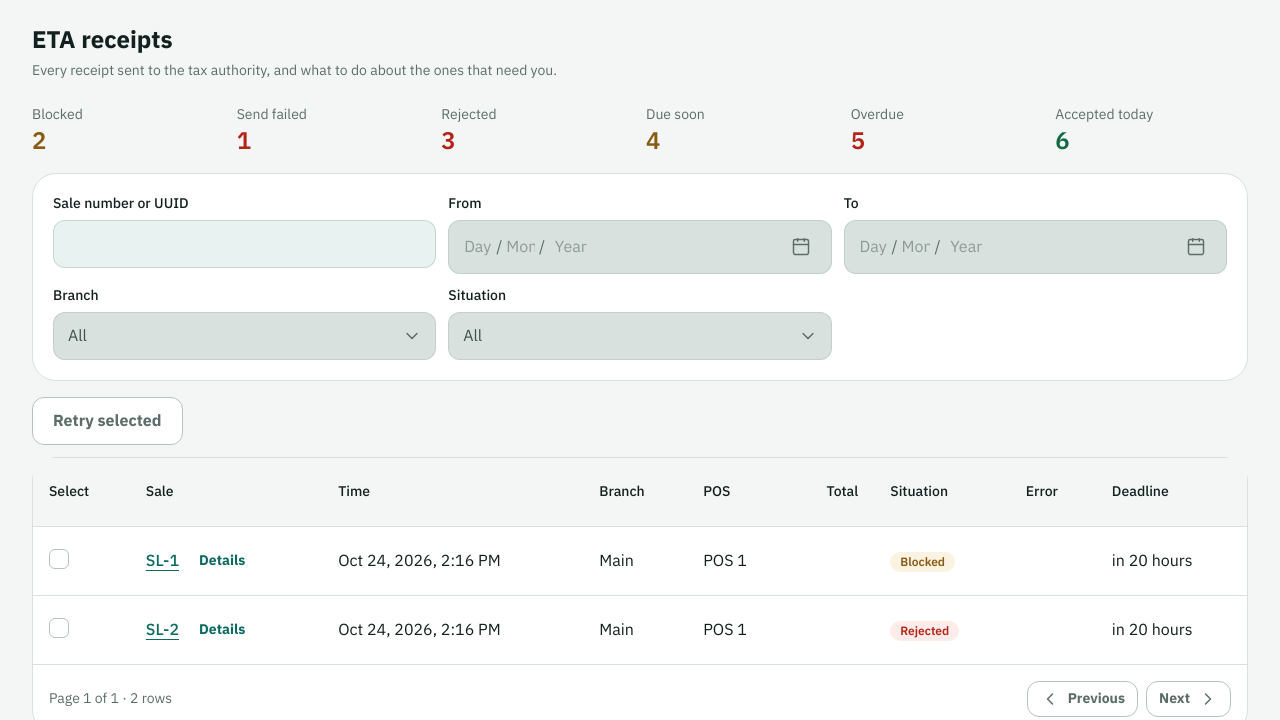
Test: T03 ETA receipts page › bulk retry shows what was skipped and why
Click the checkbox named "SL-1" at (81, 559), box x1=49 y1=547 x2=113 y2=571
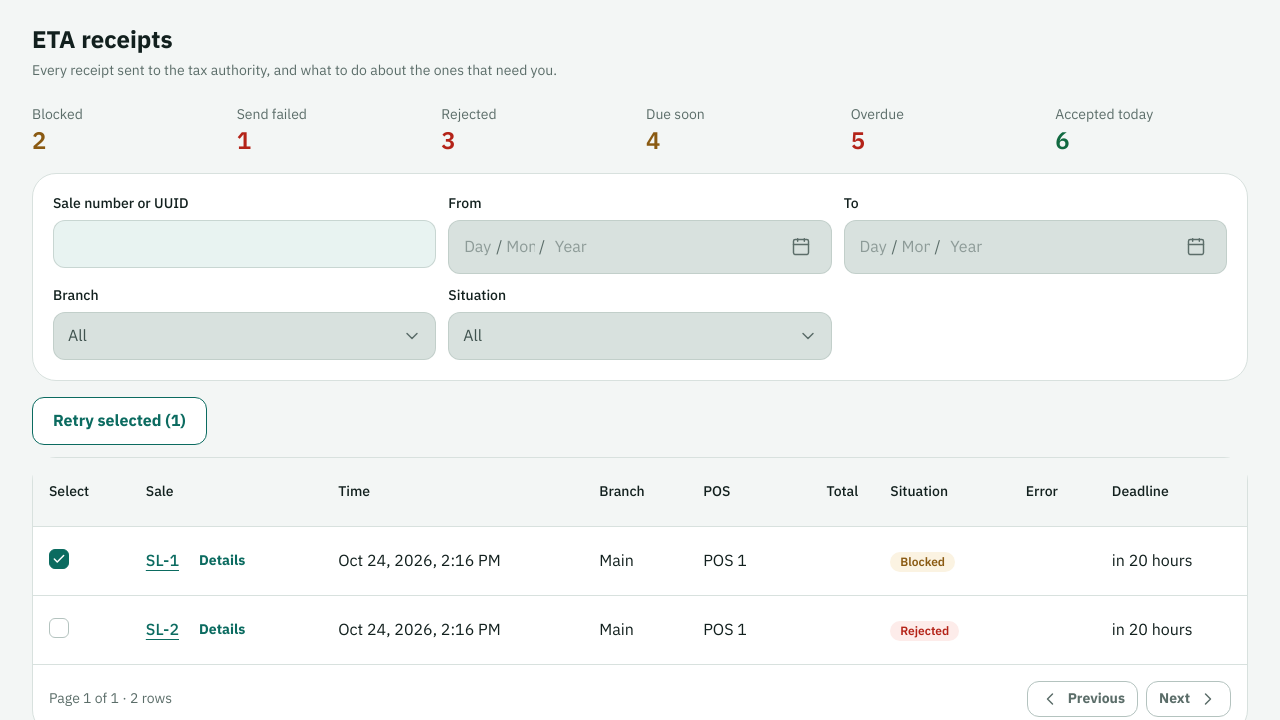
Click the checkbox named "SL-2" at (81, 628), box x1=49 y1=616 x2=113 y2=640
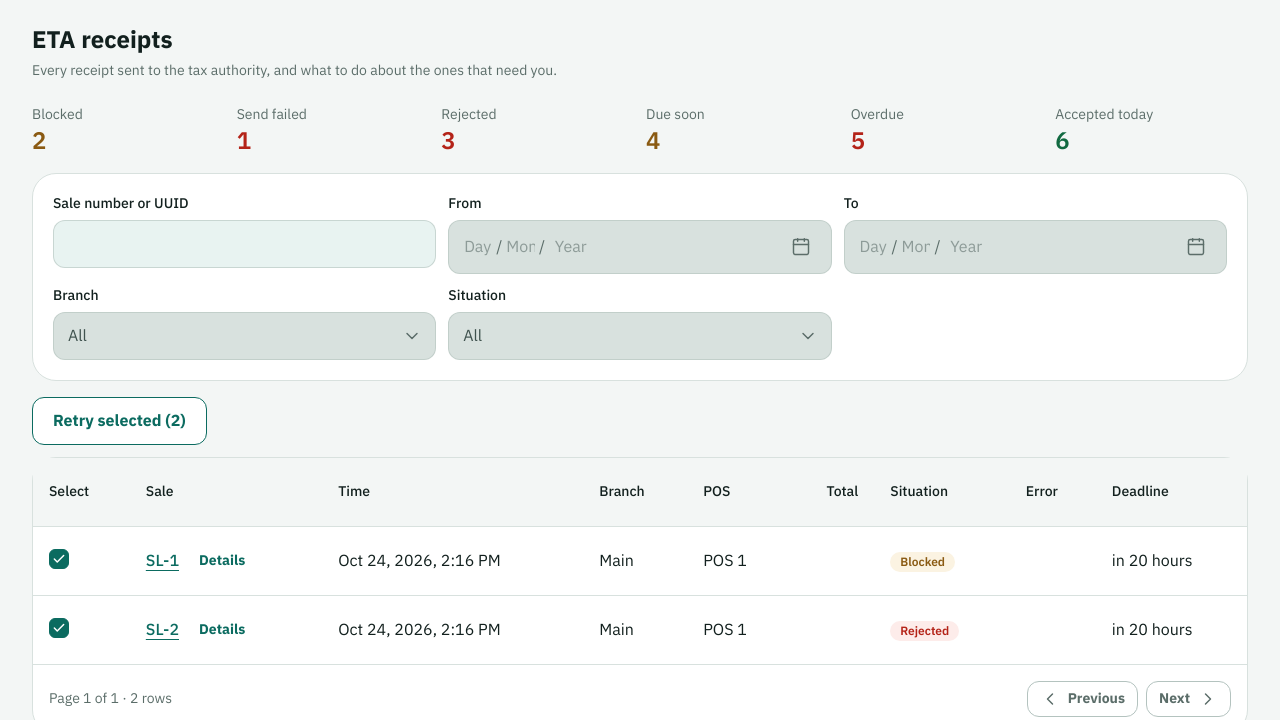
Click the button "Retry selected (2)" at (119, 421), box x1=32 y1=397 x2=207 y2=445
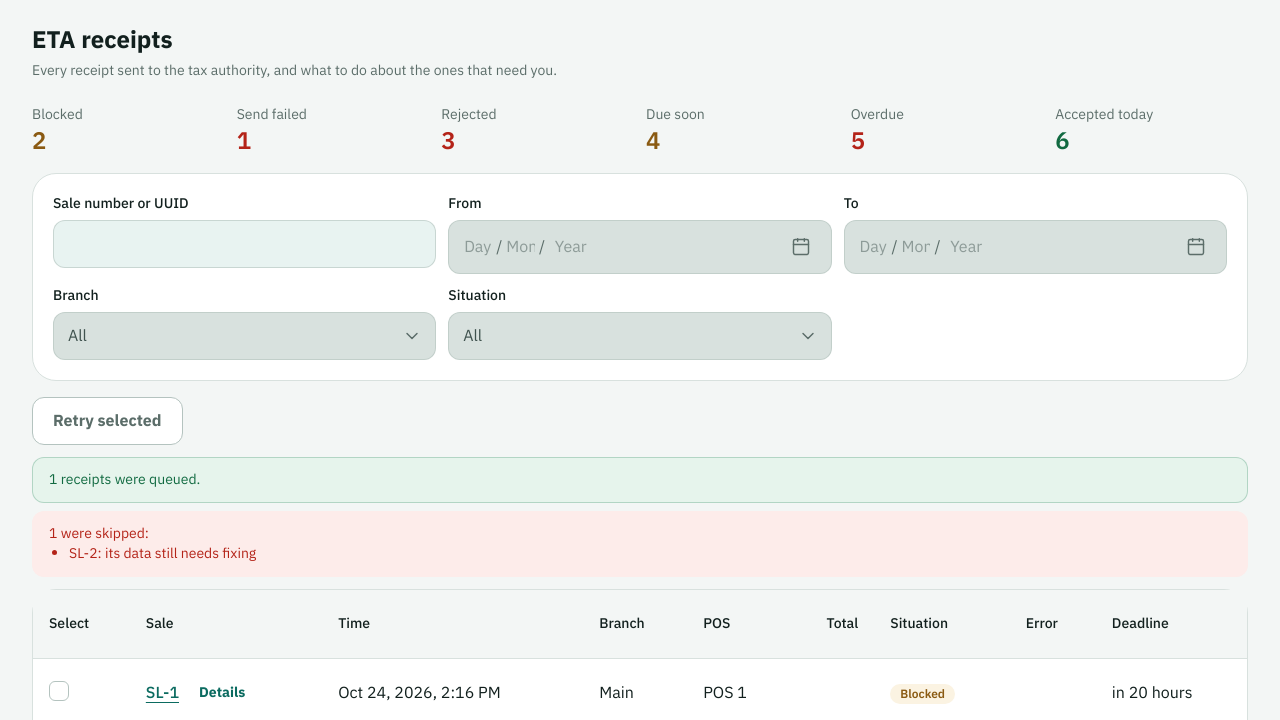
Result: the text "1 receipts were queued." is shown at x1=32 y1=457 x2=1248 y2=503
Result: the list item "SL-2: its data still needs fixing" is shown at x1=69 y1=543 x2=256 y2=564
